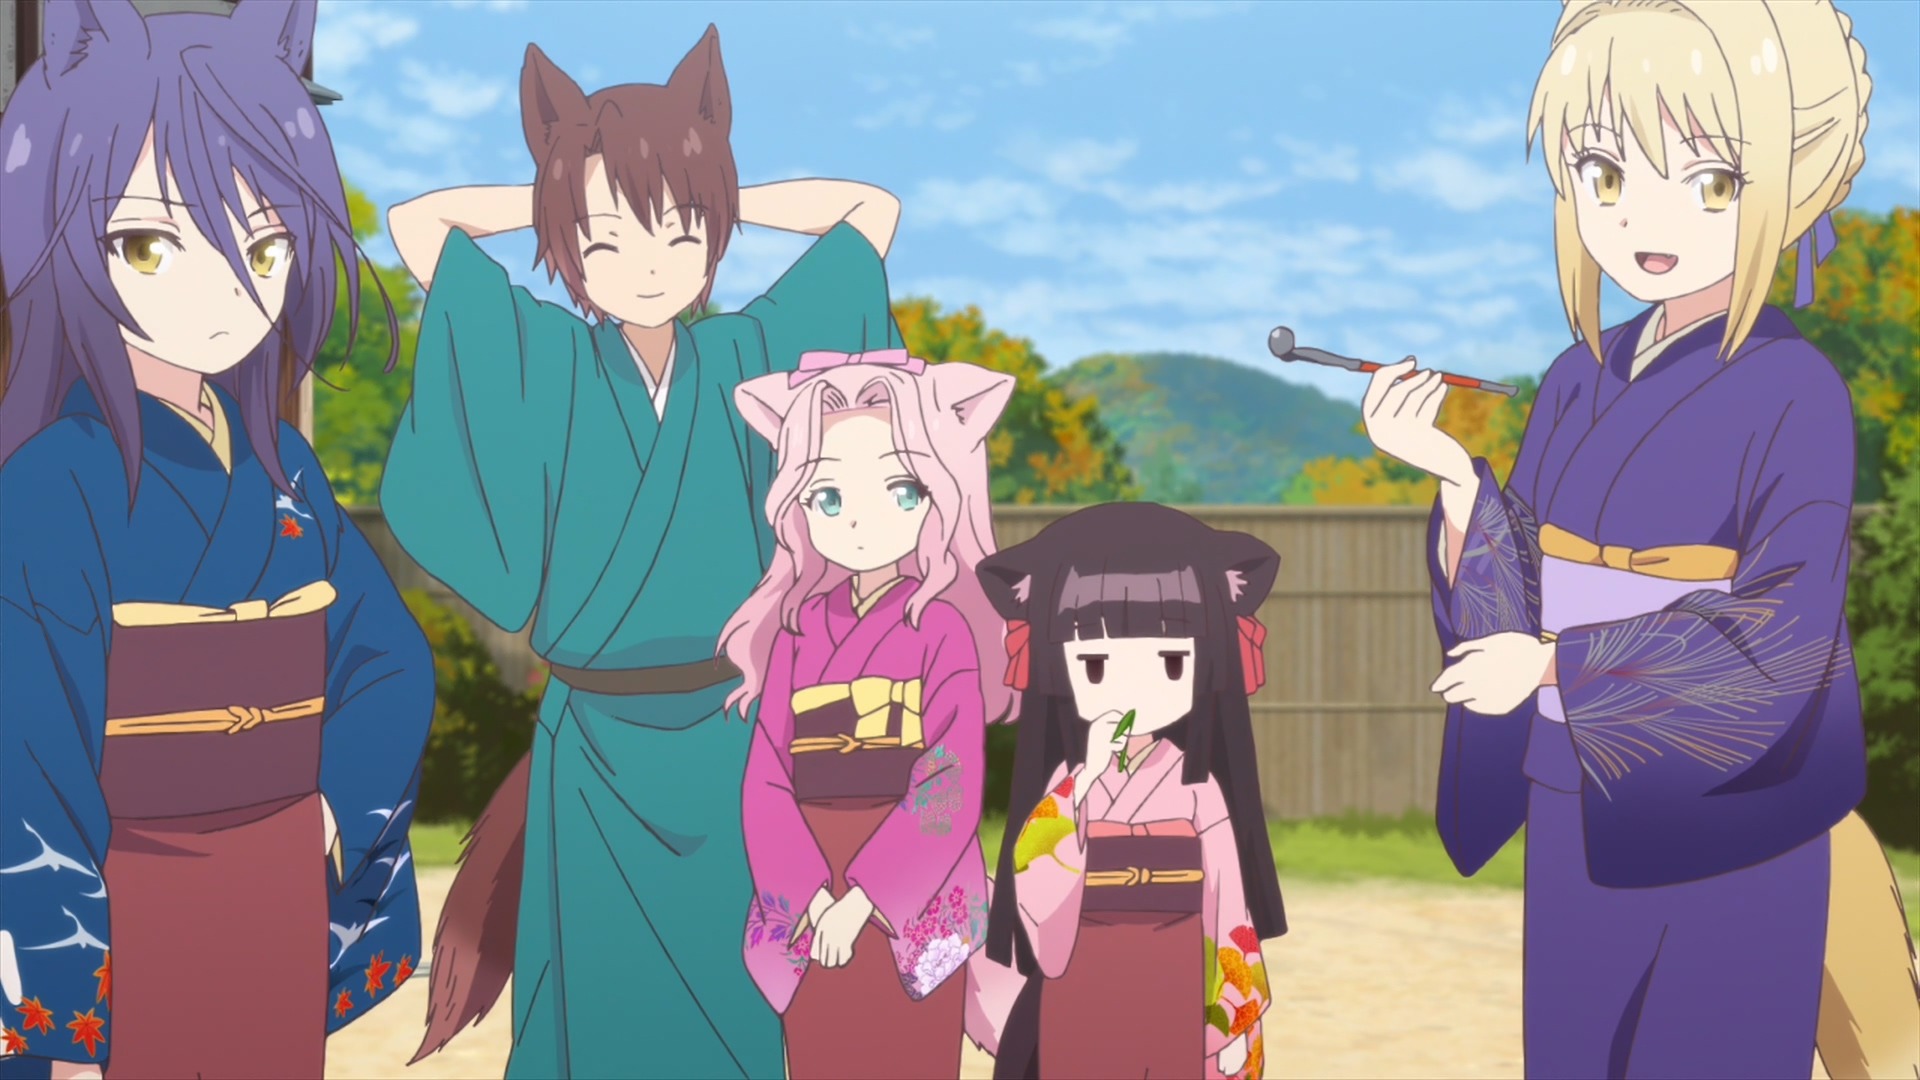枣: (378, 22, 903, 1080)
桐: (1361, 1, 1920, 1080)
樱: (975, 502, 1291, 1080)
皋: (1, 1, 436, 1080)
莲: (713, 349, 1017, 1080)
